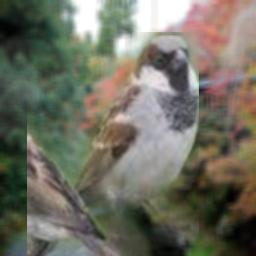Sparrow: (27, 32, 199, 256)
